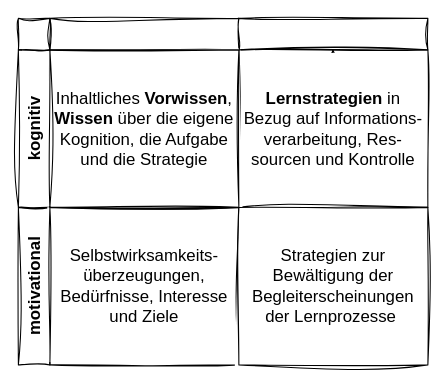
This 446x383 diagram has some shape labels left out. The centre of each missing label's shape, as x and y in pixels:
"prozedural" goes at [332,33].
"strukturell" goes at [144,33].
